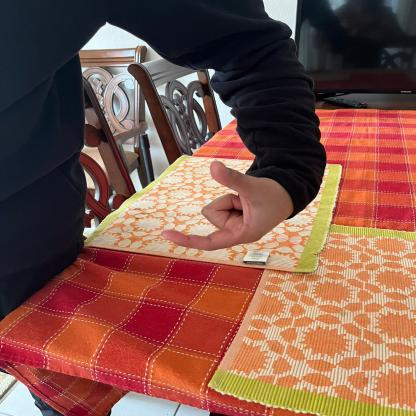G: (163, 155, 295, 258)
